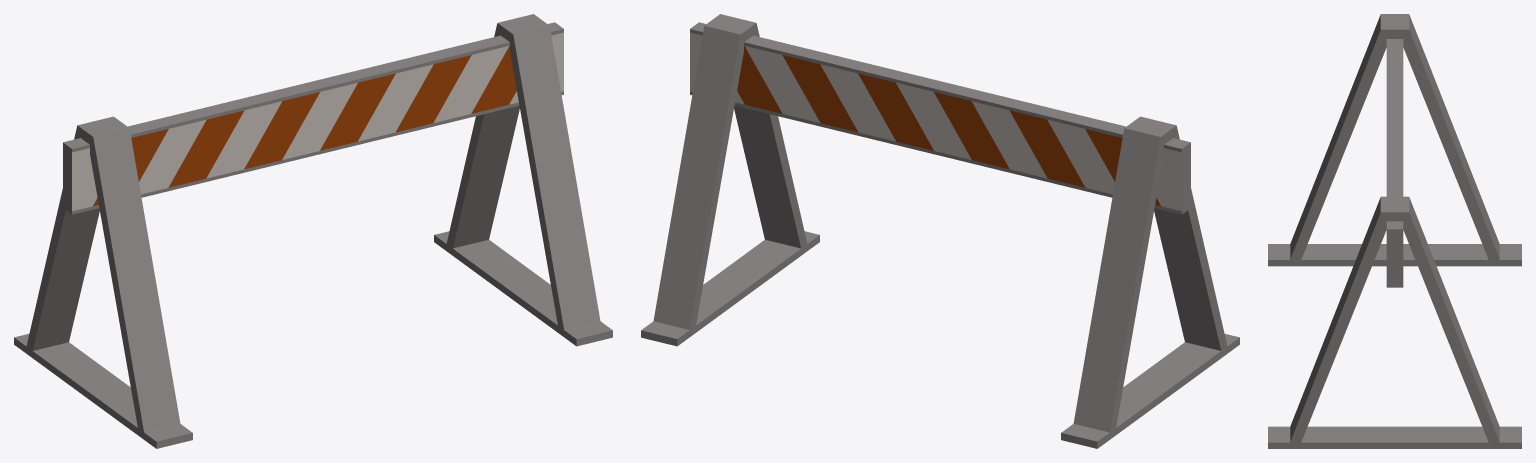
The model's file is TrafficBarrier_2.gltf.
3 renders of one model, left to right at view 1: azimuth 30°, elevation 25°; view 2: azimuth 150°, elevation 25°; view 3: azimuth 270°, elevation 25°, orthographic. The views are drawn at different scales.
Parts seen in each view (by area): view 1: TrafficBarrier_2; view 2: TrafficBarrier_2; view 3: TrafficBarrier_2.
Part boxes in pixels (<box>): TrafficBarrier_2: <box>14,14,612,448</box>; TrafficBarrier_2: <box>641,14,1239,448</box>; TrafficBarrier_2: <box>1268,14,1521,448</box>.
Bounding box in the file's own units: 1.56 × 0.8023 × 0.7801.
Materials: 1 (1 with a texture image).
